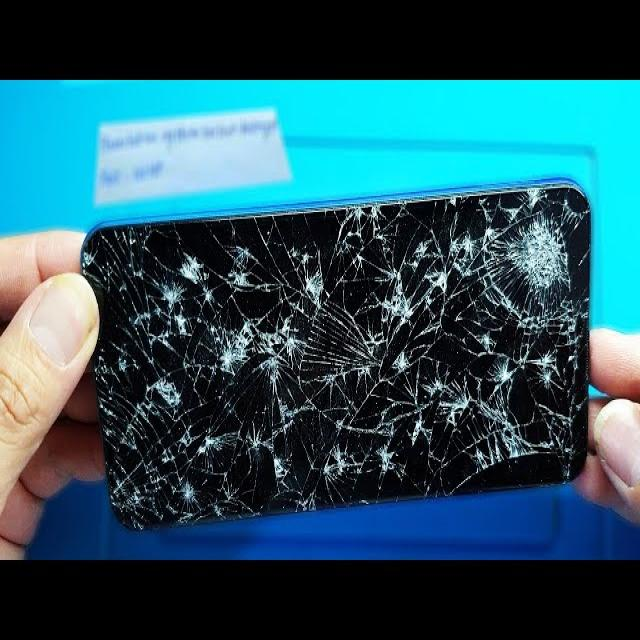mobile phone: (78, 177, 591, 531)
